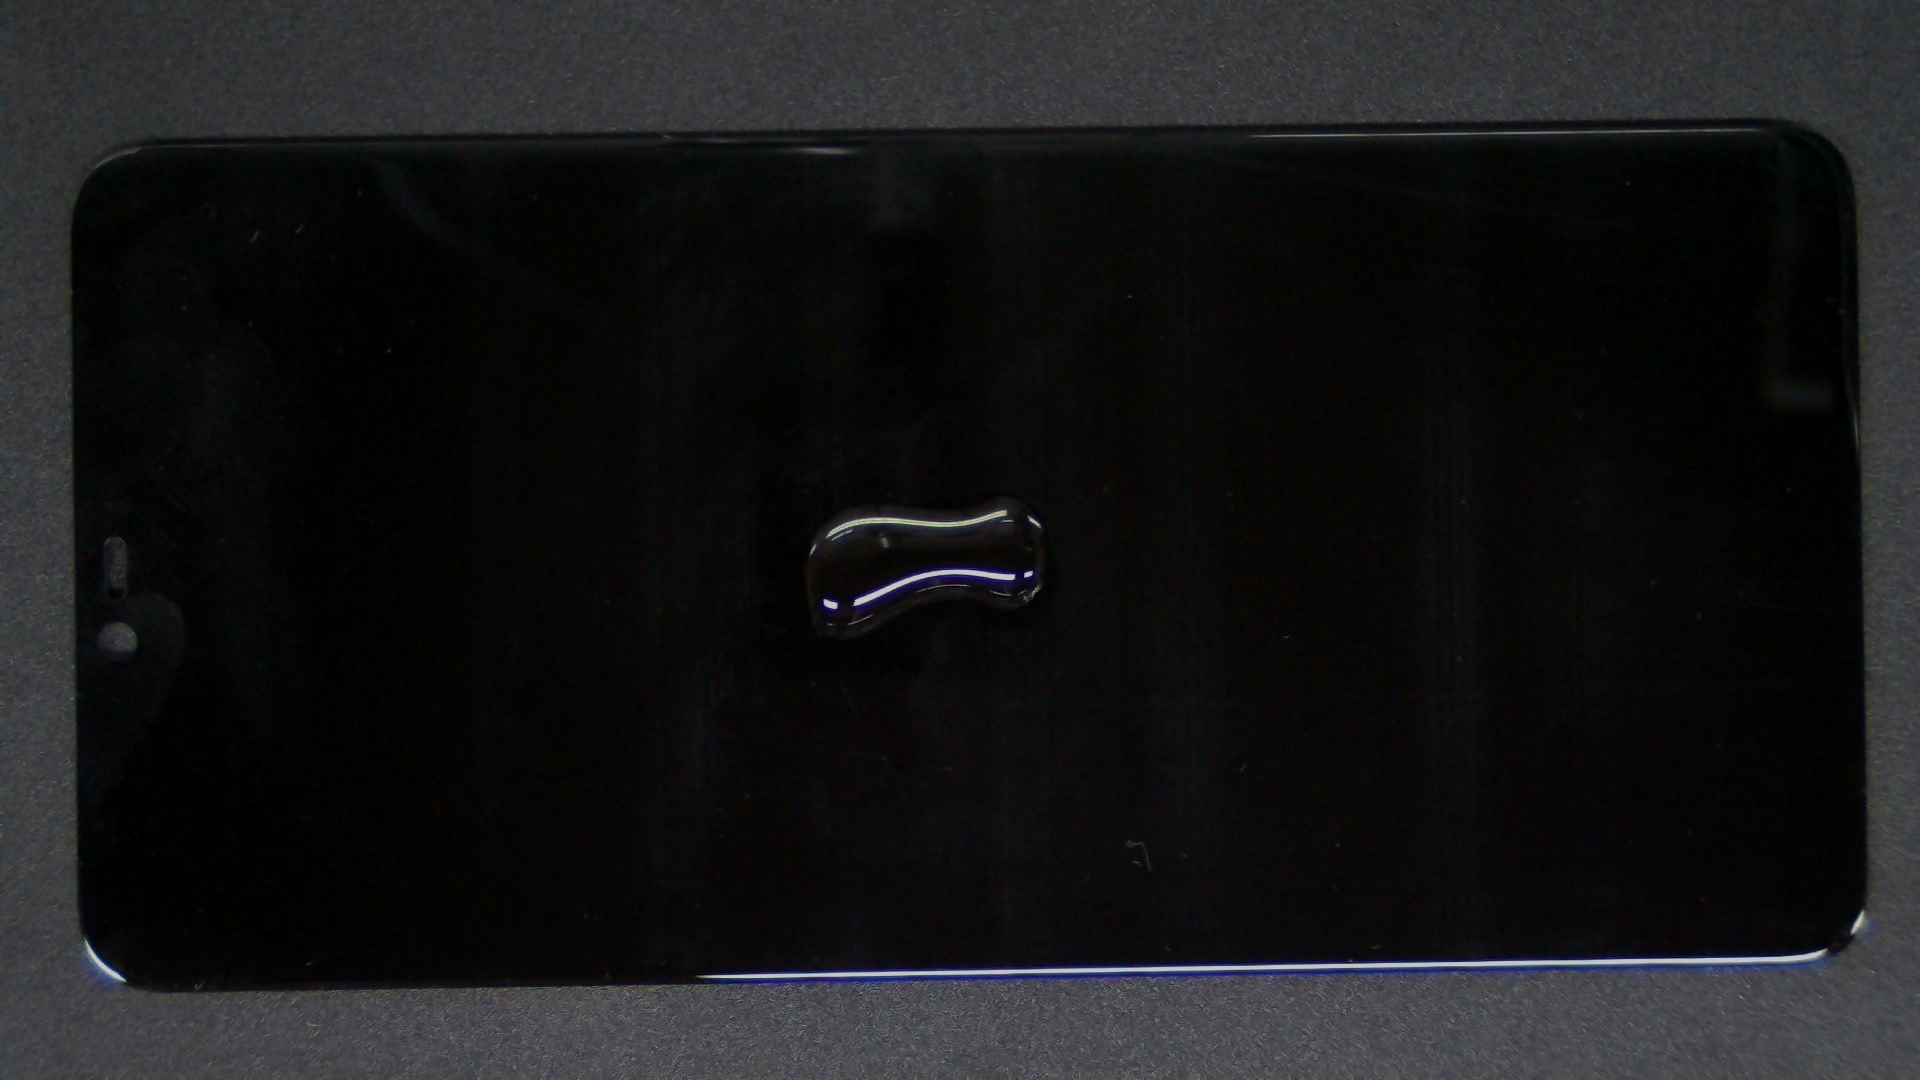oil: (501, 247, 1502, 742)
